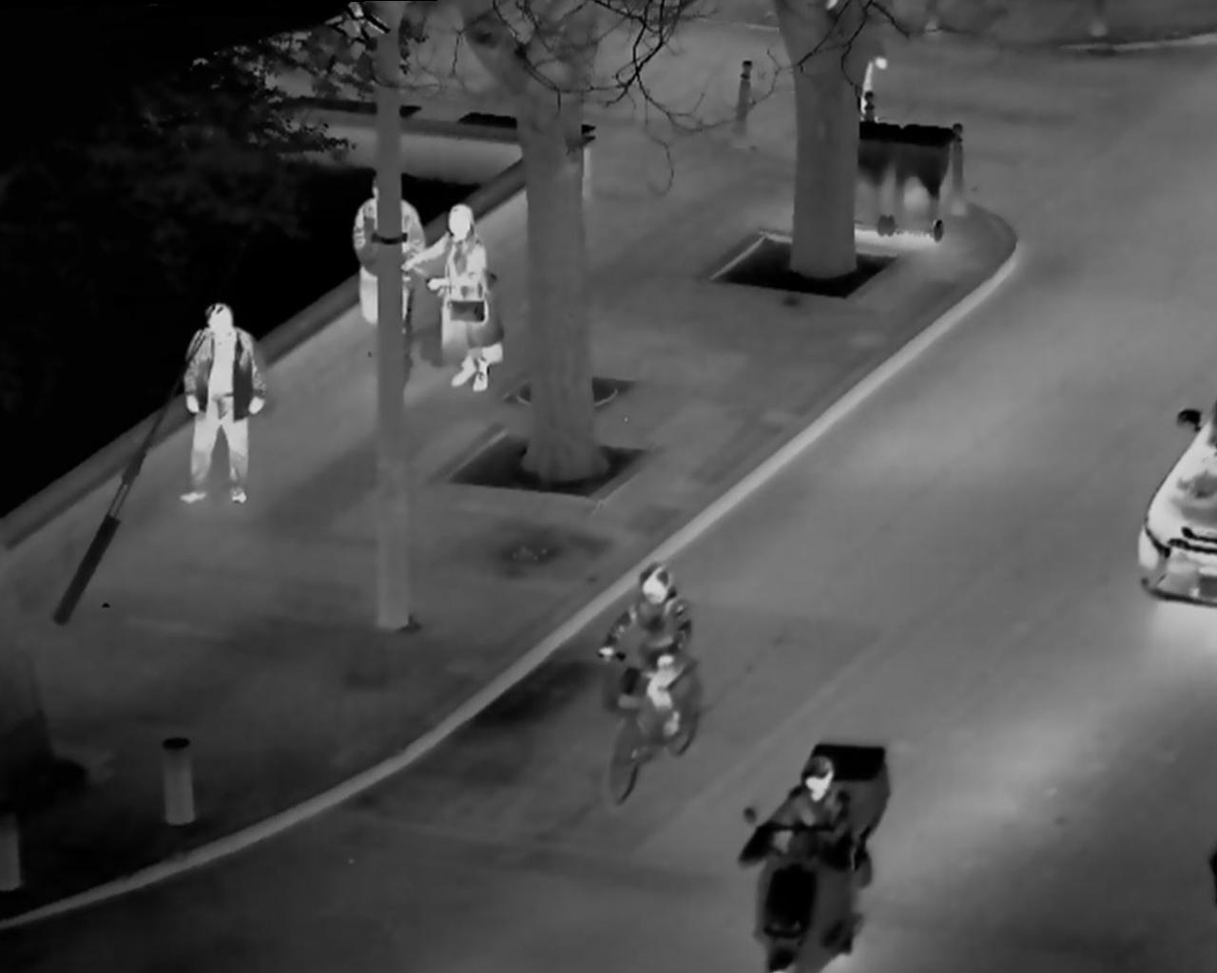person: (753, 721, 874, 952), (600, 559, 716, 793), (167, 296, 280, 512), (343, 153, 438, 333), (428, 194, 505, 389)
